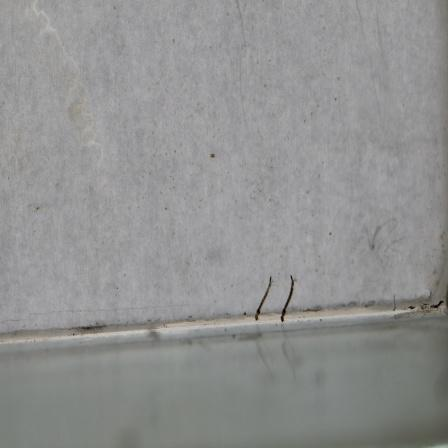Jentik-Nyamuk: (277, 272, 301, 324), (252, 274, 273, 321)
